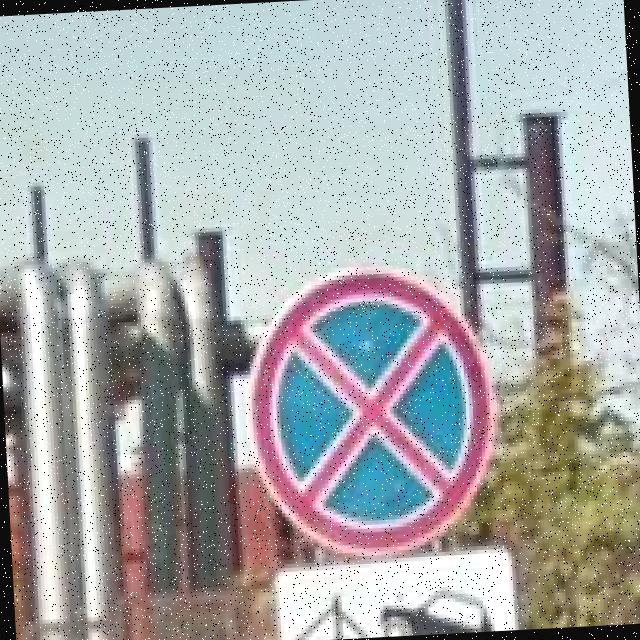Zakaz zatrzymywania sie: (238, 260, 501, 566)
